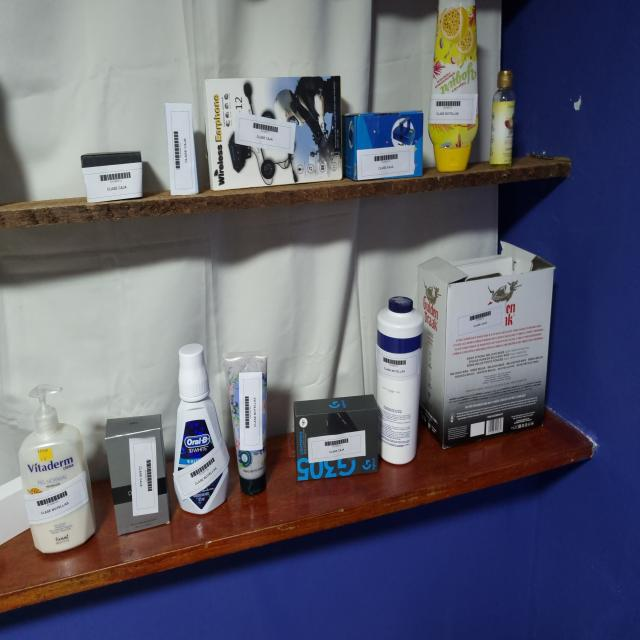botella: (19, 385, 95, 553), (173, 344, 229, 514), (428, 0, 478, 171), (376, 296, 424, 465), (224, 352, 267, 495), (489, 70, 515, 168)
caja: (420, 242, 554, 448), (206, 76, 342, 190), (105, 414, 171, 535), (294, 395, 380, 480), (343, 111, 424, 181), (164, 103, 199, 196), (81, 151, 142, 204)
